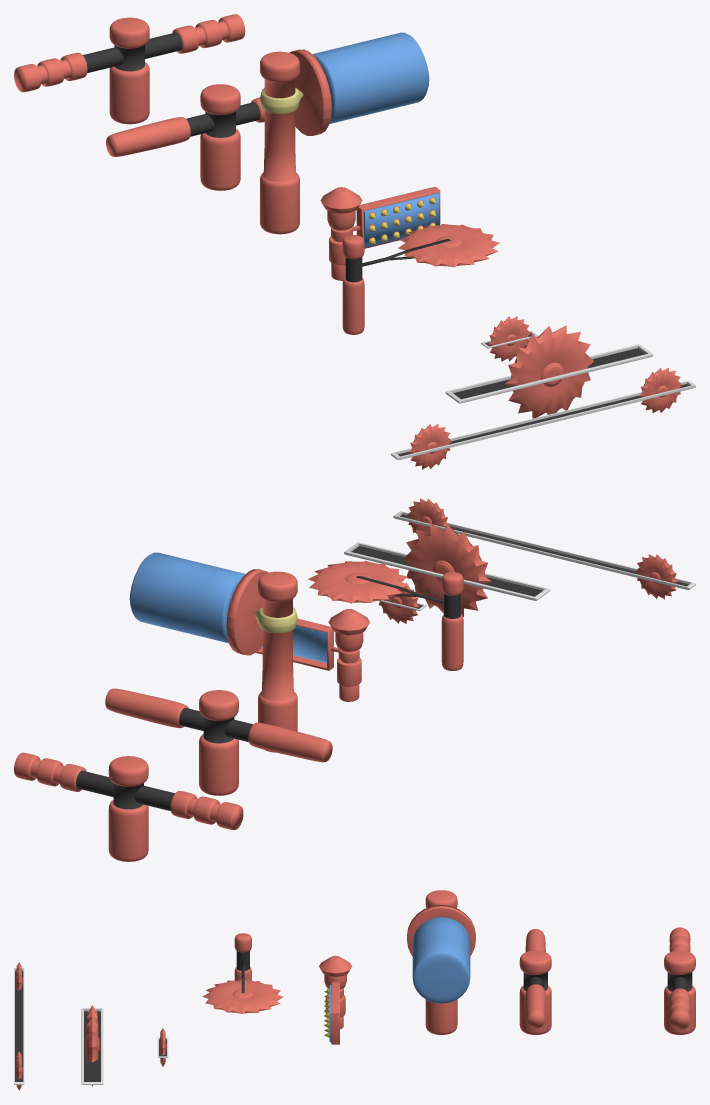
The model's file is obstacle7x.fbx.
3 renders of one model, top to bottom at view 1: azimuth 30°, elevation 25°; view 2: azimuth 150°, elevation 25°; view 3: azimuth 270°, elevation 25°, orthographic. The views are drawn at different scales.
Parts seen in each view (by area): view 1: Cylinder.004, Circle.002, saw.001, Cylinder, Circle, Circle.001, Cube, Cylinder.002, saw.004, Plane.002, Plane.001, Circle.004 (+5 smaller); view 2: Cylinder.004, Cylinder.002, Cylinder, Circle.002, saw.001, Circle, Circle.001, saw.004, Plane.002, Circle.004, Plane.001, Cube (+5 smaller); view 3: Cylinder.004, saw.004, Circle.001, Circle, Circle.002, Cylinder, Cylinder.002, Plane.001, Plane.002, Circle.004, Cube, saw.001 (+2 smaller).
Boxes of the visible parts, bbox=[...] form: Cylinder.004: bbox=[260, 32, 429, 135]; Circle.002: bbox=[260, 51, 299, 234]; saw.001: bbox=[505, 325, 593, 418]; Cylinder: bbox=[14, 14, 245, 92]; Circle: bbox=[109, 17, 149, 124]; Circle.001: bbox=[200, 84, 240, 190]; Cube: bbox=[356, 186, 440, 248]; Cylinder.002: bbox=[106, 97, 264, 156]; saw.004: bbox=[398, 224, 499, 267]; Plane.002: bbox=[391, 380, 695, 460]; Plane.001: bbox=[445, 344, 653, 403]; Circle.004: bbox=[320, 187, 362, 280]; Cylinder.004: bbox=[129, 552, 297, 655]; Cylinder.002: bbox=[105, 688, 332, 762]; Cylinder: bbox=[14, 752, 243, 830]; Circle.002: bbox=[258, 571, 297, 752]; saw.001: bbox=[403, 523, 491, 616]; Circle: bbox=[108, 756, 148, 861]; Circle.001: bbox=[199, 690, 238, 795]; saw.004: bbox=[308, 560, 408, 603]; Plane.002: bbox=[393, 511, 695, 589]; Circle.004: bbox=[328, 609, 369, 701]; Plane.001: bbox=[344, 542, 550, 600]; Cube: bbox=[255, 618, 333, 670]; Cylinder.004: bbox=[407, 905, 475, 1003]; saw.004: bbox=[202, 980, 283, 1013]; Circle.001: bbox=[519, 950, 551, 1034]; Circle: bbox=[664, 950, 695, 1034]; Circle.002: bbox=[425, 890, 457, 1034]; Cylinder: bbox=[669, 927, 690, 1029]; Cylinder.002: bbox=[525, 929, 545, 1028]; Plane.001: bbox=[81, 1008, 103, 1084]; Plane.002: bbox=[14, 968, 24, 1084]; Circle.004: bbox=[319, 955, 352, 1029]; Cube: bbox=[324, 982, 339, 1044]; saw.001: bbox=[85, 1005, 99, 1086].
Bounding box in the file's own units: 1114 × 755 × 2779.
